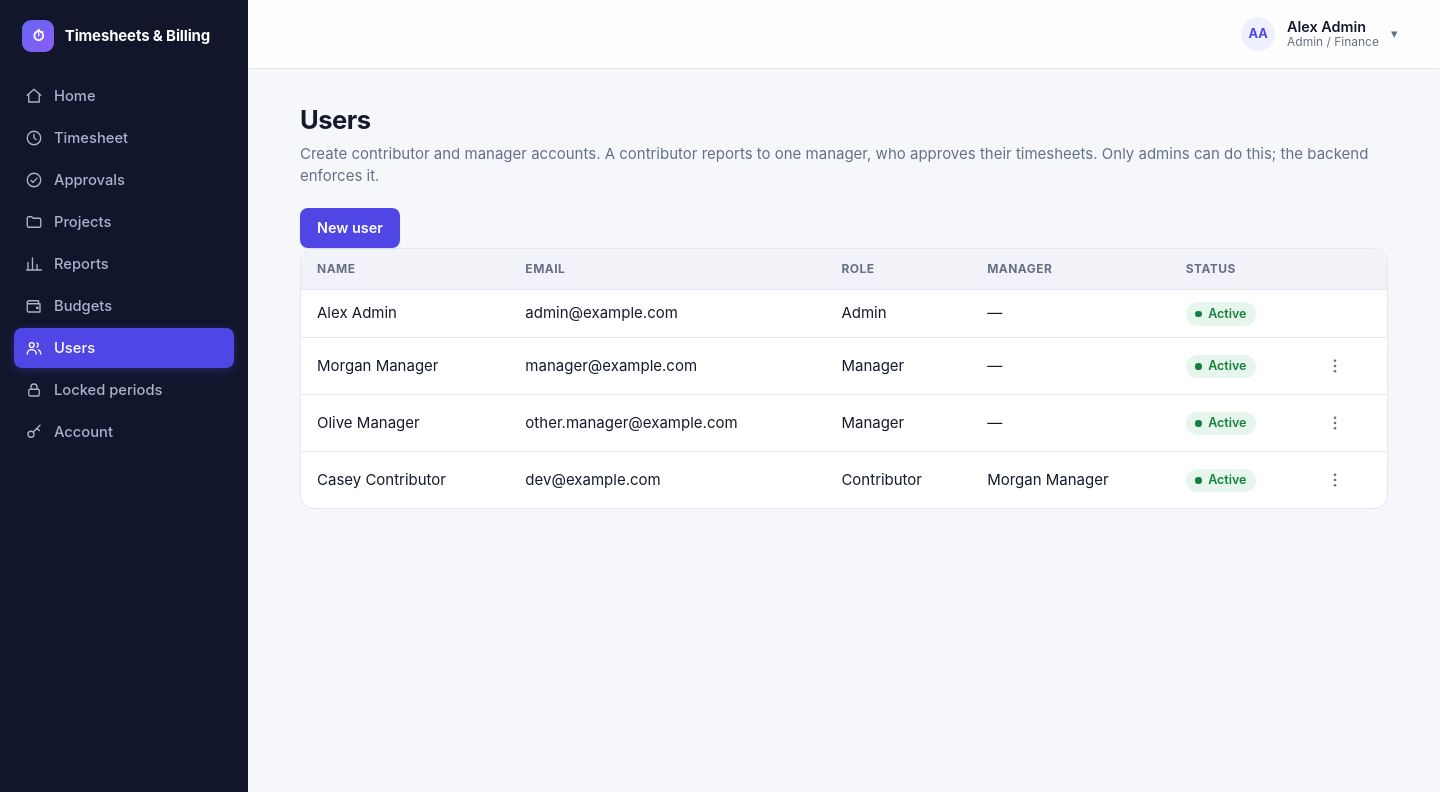
Test: user administration (admin) › can reveal the initial password while typing it
Check: the heading "Users" is shown, box x1=300 y1=104 x2=370 y2=135
Click the button "New user": (350, 228) x1=300 y1=208 x2=400 y2=248
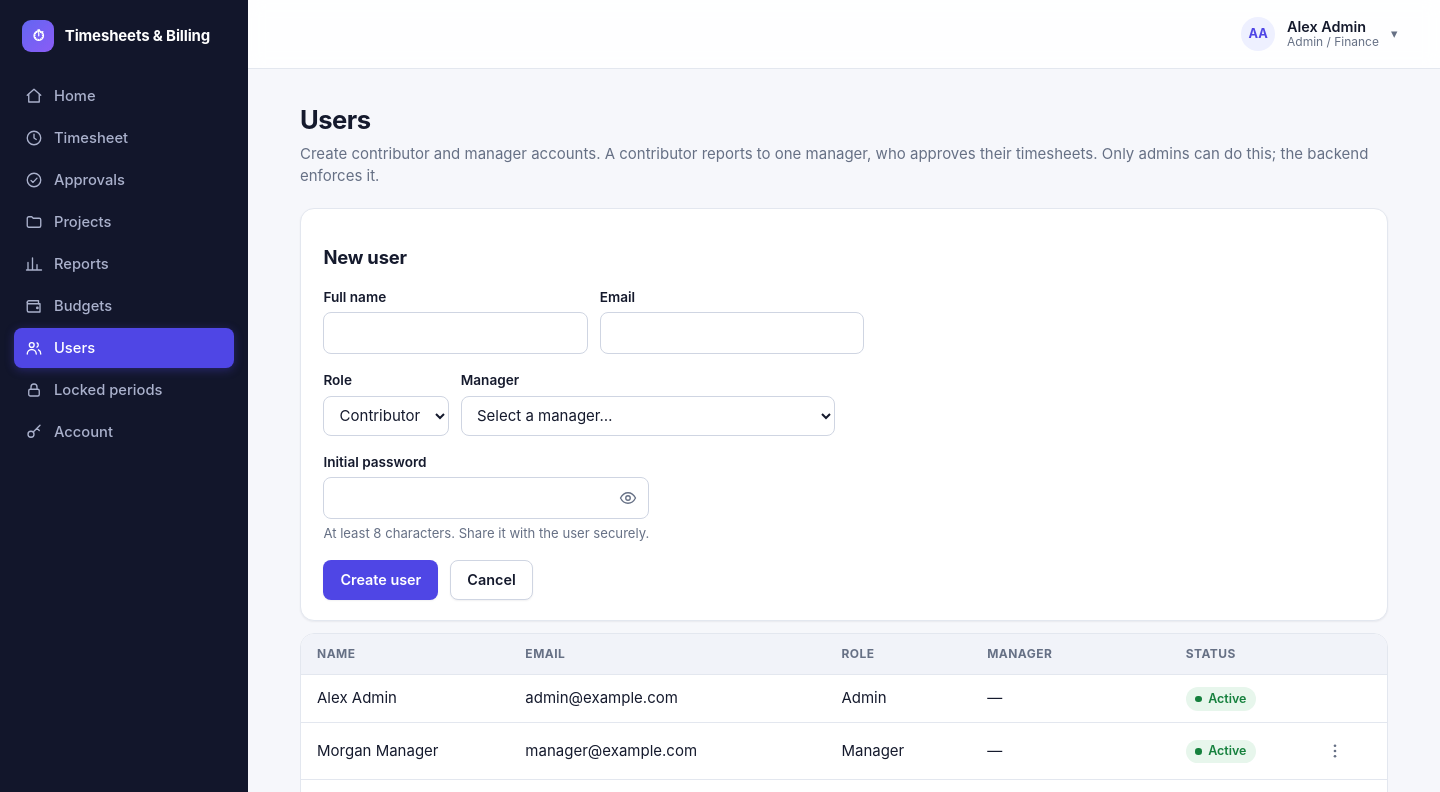
In the password field labelled "Initial password": (486, 498) x1=323 y1=477 x2=649 y2=519, type "Long-Enough-Pass-1"
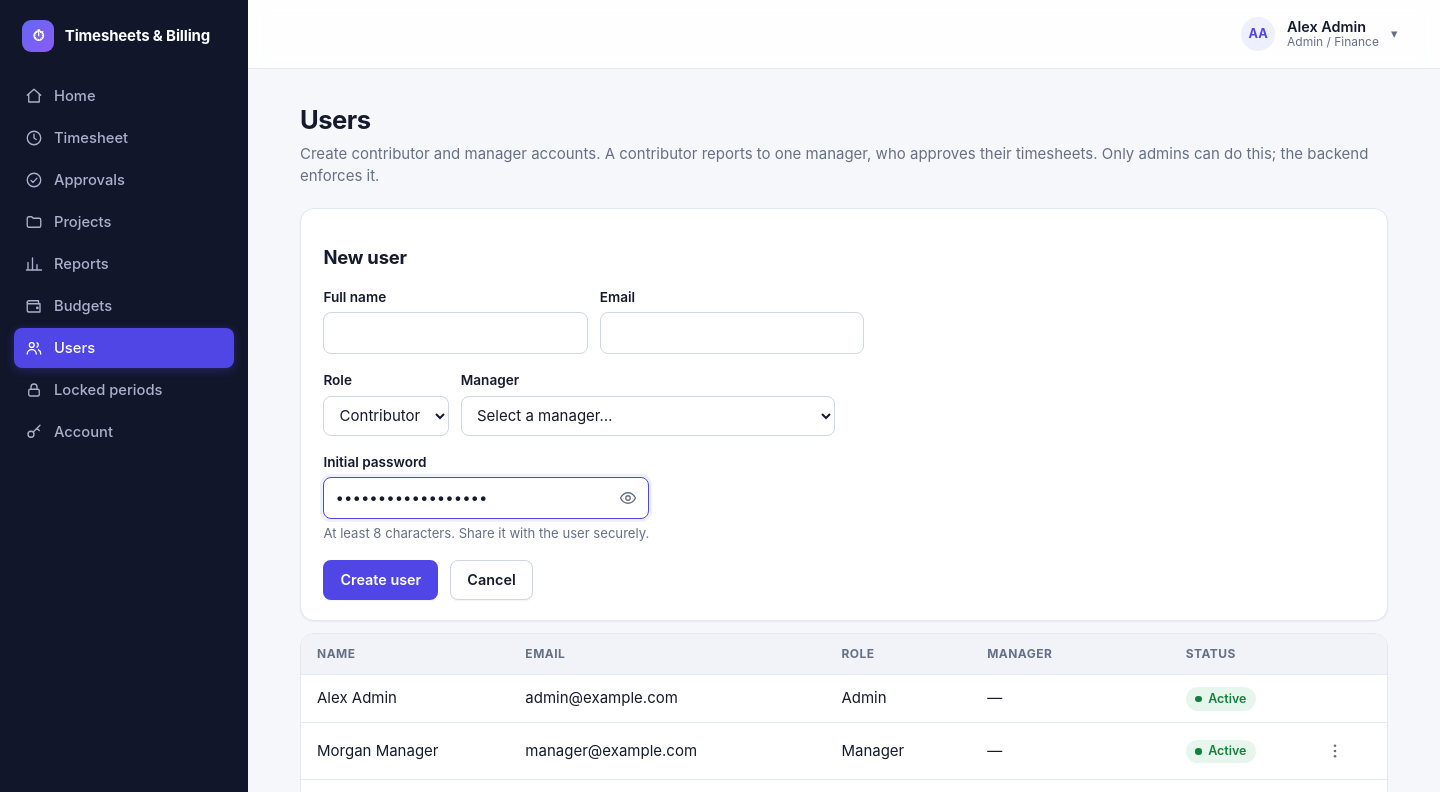
Click the button named "Show initial password": (628, 498) x1=612 y1=482 x2=644 y2=514
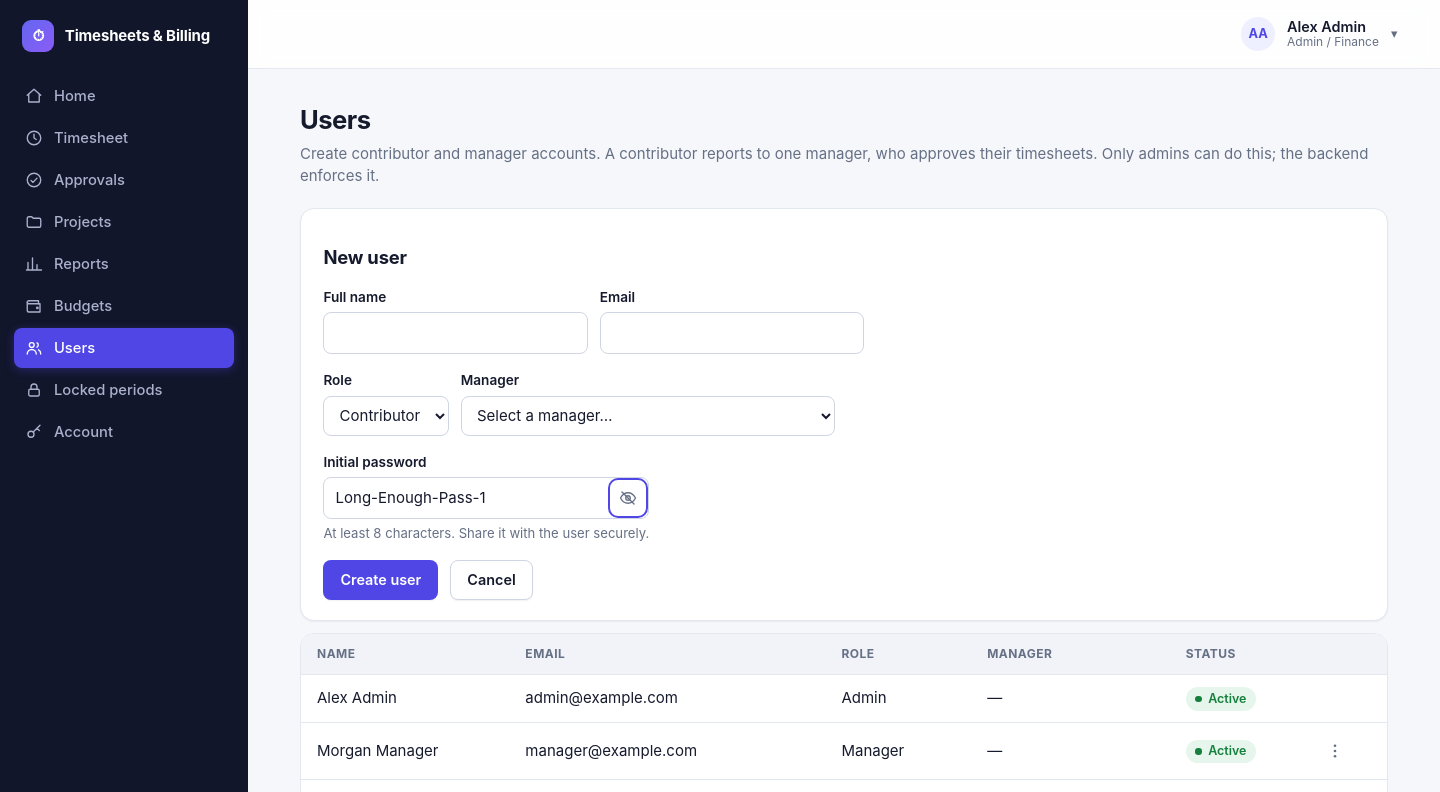
Check: the field labelled "Initial password" shows its text, box x1=323 y1=477 x2=649 y2=519
